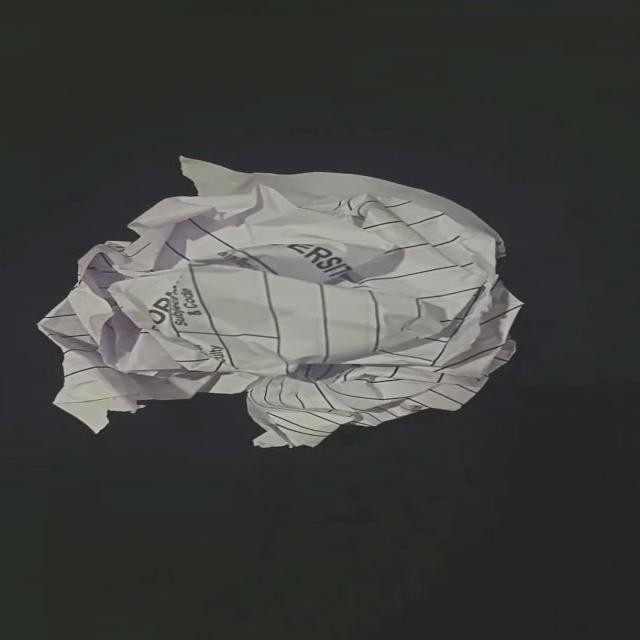PaperBall: (16, 132, 587, 449)
